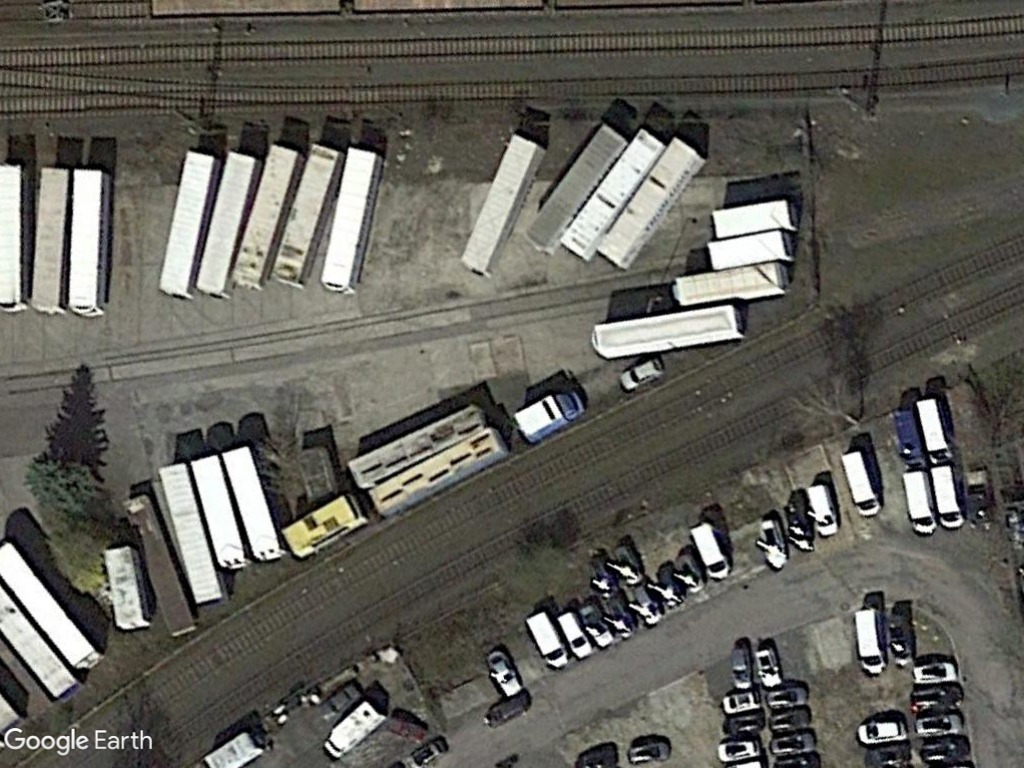longvehicle: (559, 123, 673, 264), (592, 138, 707, 271), (461, 131, 549, 277), (230, 138, 303, 299), (151, 455, 227, 608), (270, 138, 343, 294), (317, 141, 387, 302), (195, 147, 261, 302), (578, 302, 752, 359), (158, 146, 220, 303), (217, 442, 285, 564), (64, 160, 114, 320), (189, 449, 253, 573), (25, 161, 72, 321), (668, 259, 798, 308), (100, 542, 158, 633), (701, 226, 798, 272), (708, 195, 799, 240)
truck: (317, 696, 386, 762)
van: (834, 447, 888, 520), (898, 466, 942, 541), (913, 392, 957, 465), (684, 519, 733, 584), (522, 605, 569, 671), (926, 458, 965, 531), (852, 600, 888, 678)
